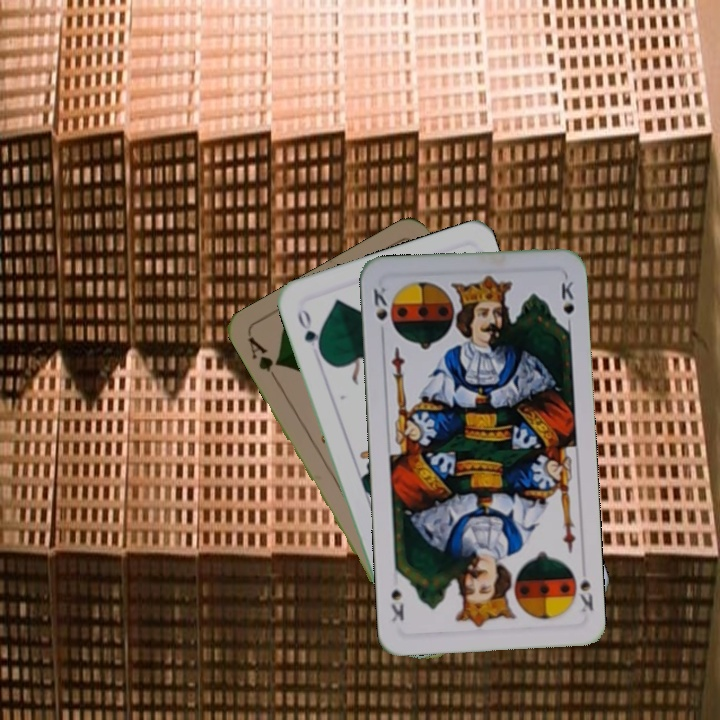GA: (244, 332, 283, 386)
GO: (293, 303, 325, 359)
SK: (369, 283, 390, 340), (575, 575, 596, 615)
